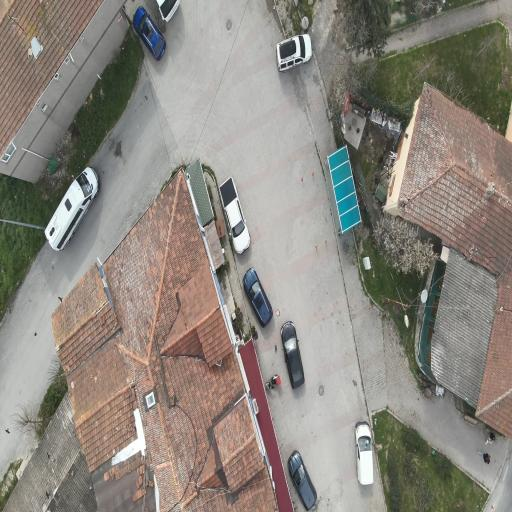car: (45, 167, 99, 250), (220, 178, 250, 253), (243, 268, 273, 327), (288, 451, 317, 510), (133, 7, 165, 60), (281, 321, 304, 388), (277, 35, 312, 71), (355, 421, 373, 484), (158, 0, 179, 21)
person: (486, 432, 495, 444), (483, 453, 490, 464), (6, 429, 10, 433)
